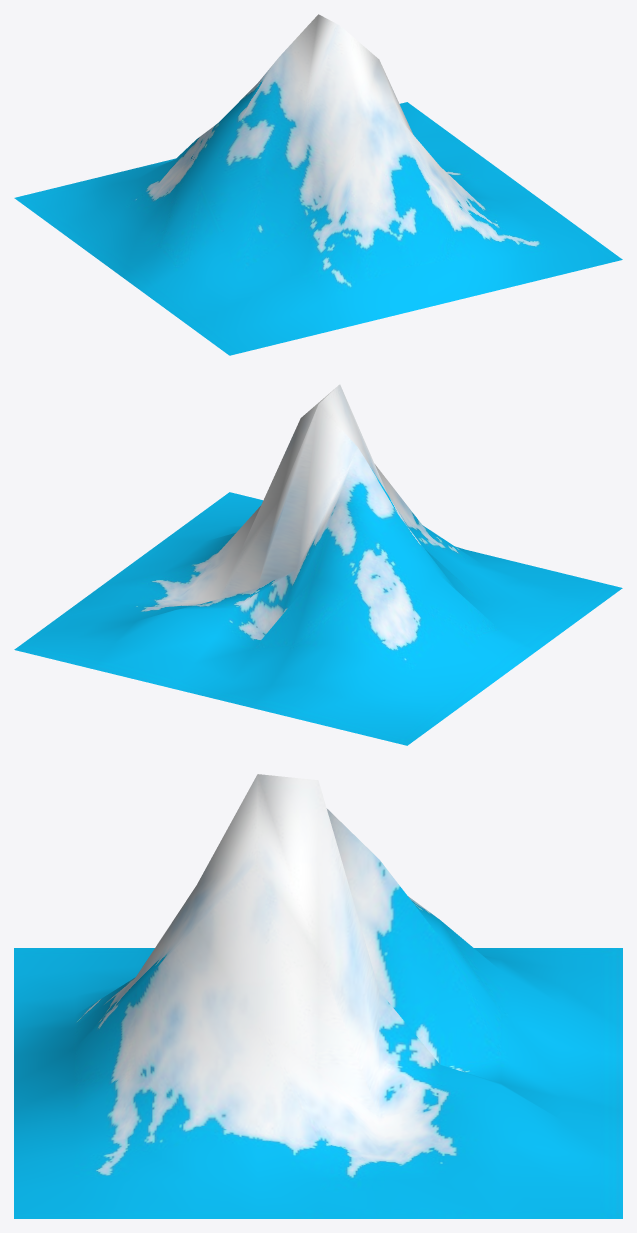
The model's file is Jeges hegy.fbx.
3 renders of one model, top to bottom at view 1: azimuth 30°, elevation 25°; view 2: azimuth 150°, elevation 25°; view 3: azimuth 270°, elevation 25°, orthographic. The views are drawn at different scales.
Visible parts, largest first — view 1: Landscape_1; view 2: Landscape_1; view 3: Landscape_1.
Part boxes in pixels (x1,y1,x2,y2): Landscape_1: (14, 14, 622, 355); Landscape_1: (14, 384, 622, 745); Landscape_1: (14, 774, 622, 1218).
Size of the model in its own units: 99.29 by 52.85 by 94.28.
Materials: 1 (1 with a texture image).
